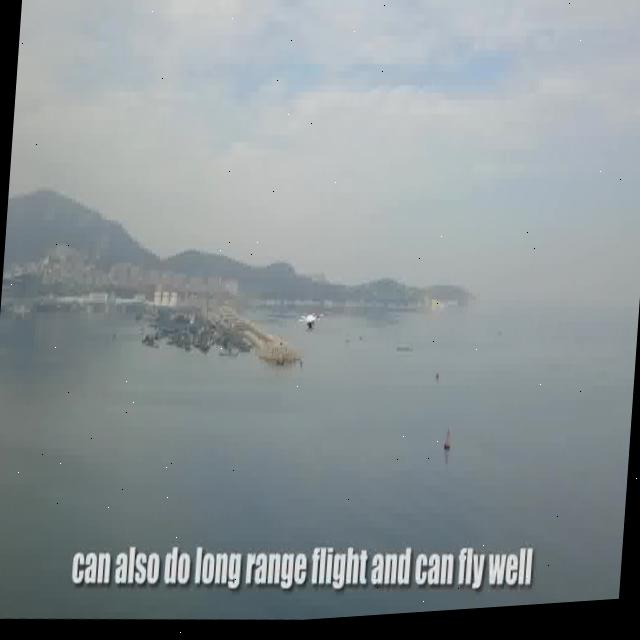drone: (294, 308, 322, 335)
